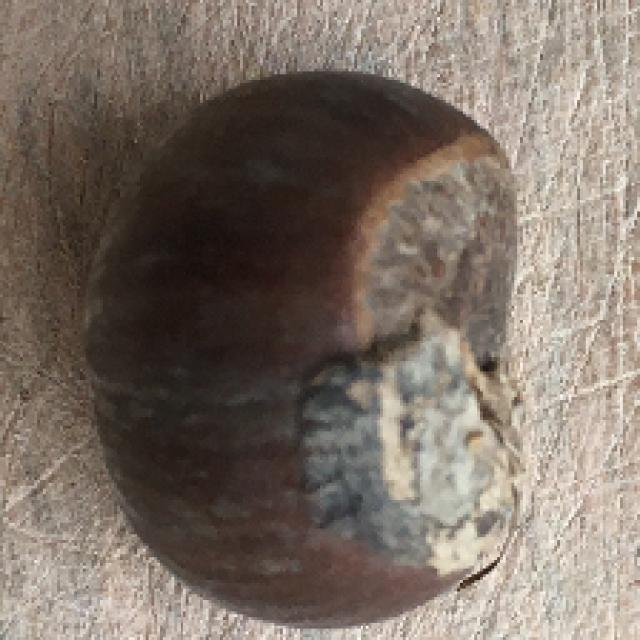damagedHazelnut: (81, 71, 526, 622)
